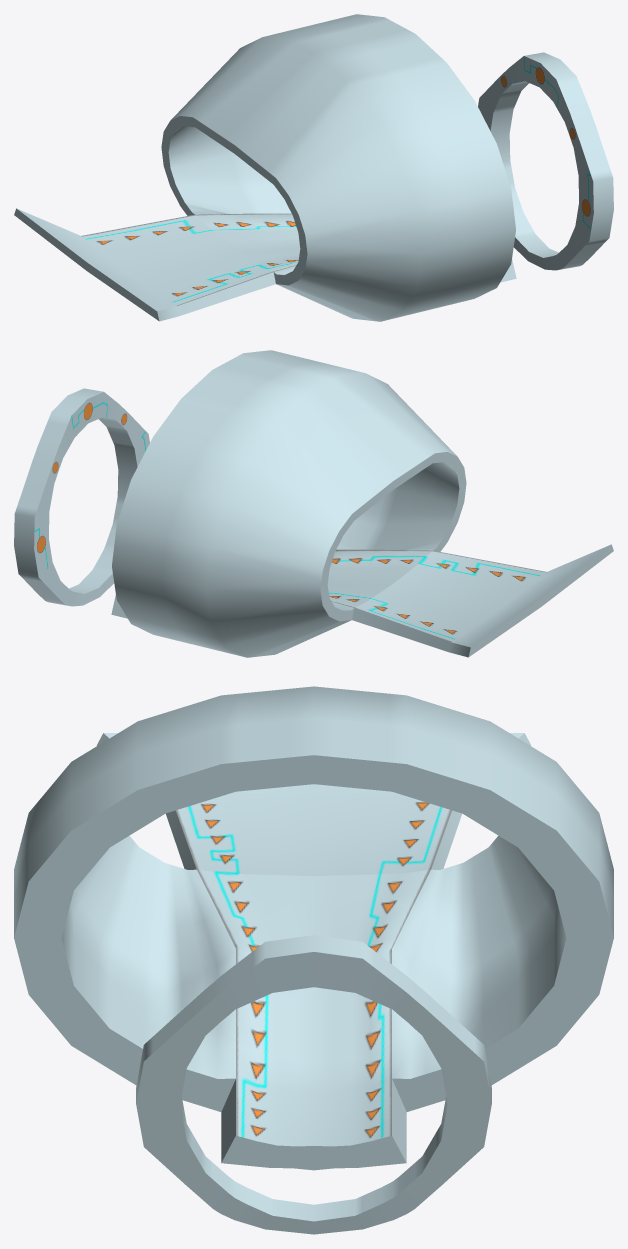
File: startingPlatform.fbx
The picture shows the model from 3 angles, top to bottom: view 1: azimuth 30°, elevation 25°; view 2: azimuth 150°, elevation 25°; view 3: azimuth 270°, elevation 25°; orthographic projection. The views are drawn at different scales.
Visible parts, largest first — view 1: pPipe3; view 2: pPipe3; view 3: pPipe3.
Boxes of the visible parts, <box> form: pPipe3: <box>14,14,613,321</box>; pPipe3: <box>14,350,613,657</box>; pPipe3: <box>14,686,613,1234</box>.
Size of the model in its own units: 23.51 by 12.15 by 17.26.
Materials: 1 (1 with a texture image).
